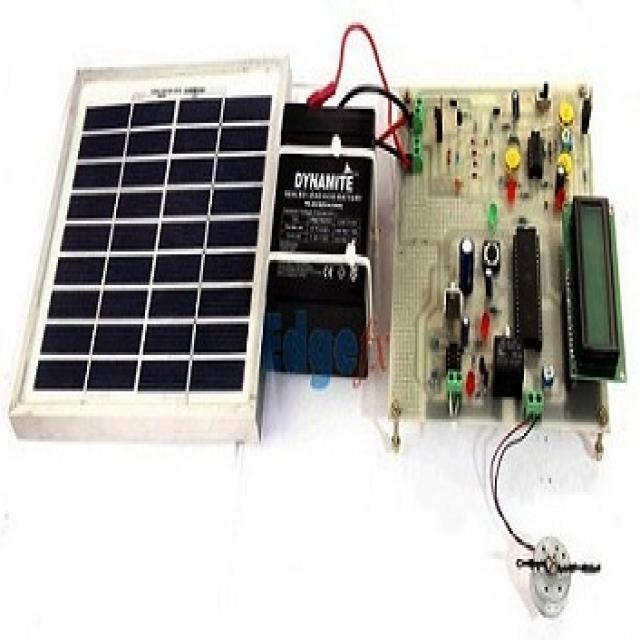no faulty: (59, 82, 252, 395)
